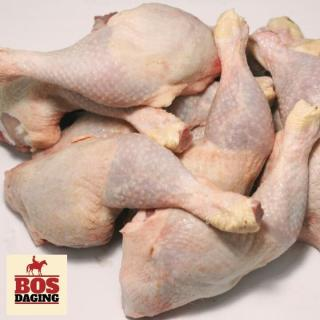Ayam: (119, 98, 320, 320), (4, 132, 267, 251), (1, 2, 224, 110)
